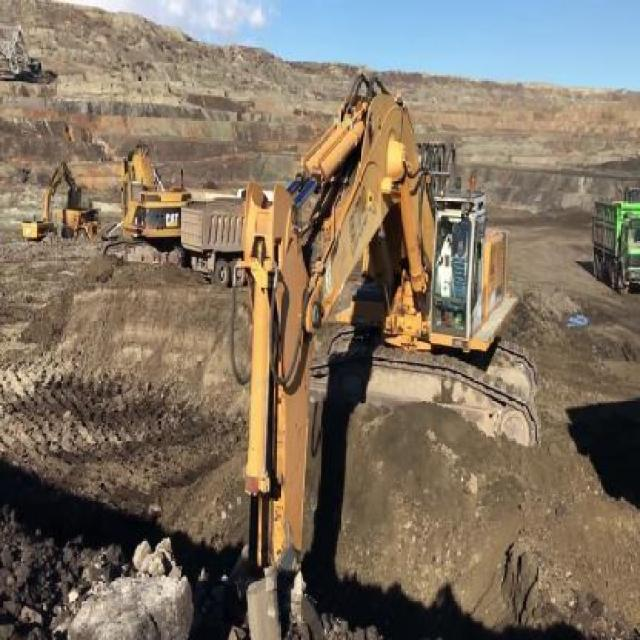dump_truck: (182, 189, 252, 283), (593, 195, 639, 292), (56, 198, 96, 244)
excavator: (228, 85, 535, 627), (104, 145, 185, 269), (20, 160, 77, 245)
